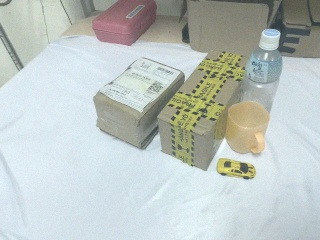bottle: (238, 29, 283, 113)
box: (158, 52, 245, 170), (93, 56, 185, 150), (180, 1, 320, 59)
cup: (225, 101, 270, 155)
toy_car: (214, 157, 258, 182)
